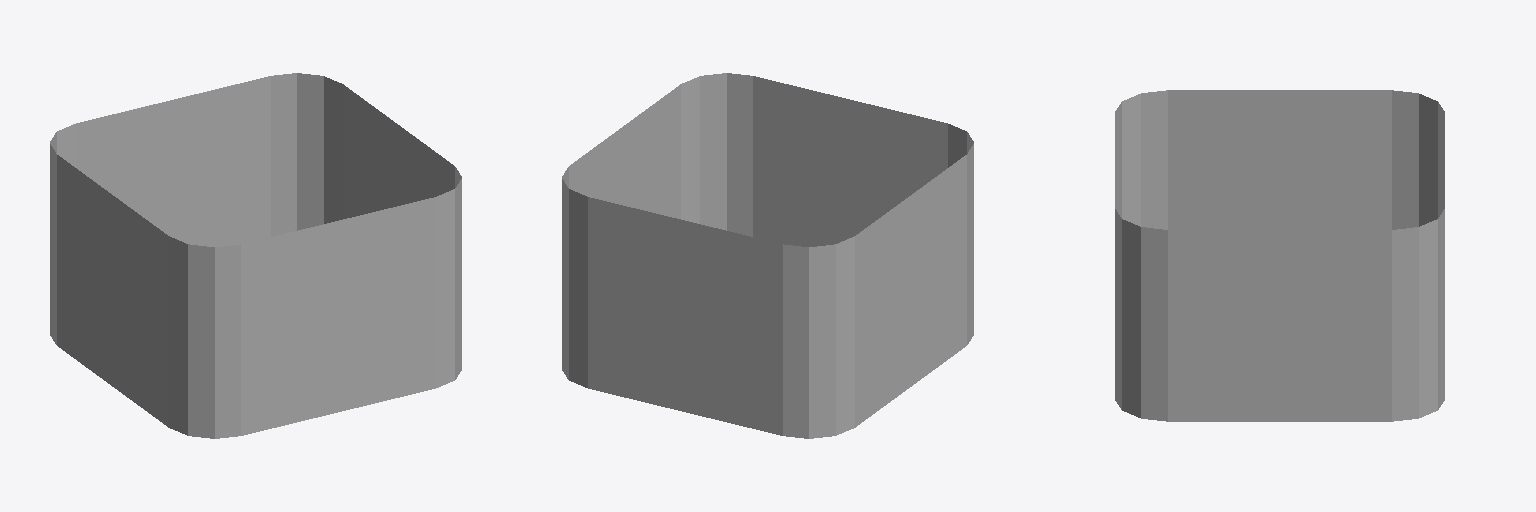
The model's file is building-cube.obj.
3 renders of one model, left to right at view 1: azimuth 30°, elevation 25°; view 2: azimuth 150°, elevation 25°; view 3: azimuth 270°, elevation 25°, orthographic.
Parts seen in each view (by area): view 1: pCube559; view 2: pCube559; view 3: pCube559.
Boxes of the visible parts, x1,y1,x2,y2 form: pCube559: [50, 73, 461, 438]; pCube559: [562, 73, 973, 438]; pCube559: [1115, 90, 1444, 421].
Bounding box in the file's own units: 2.02 × 1.29 × 2.02.